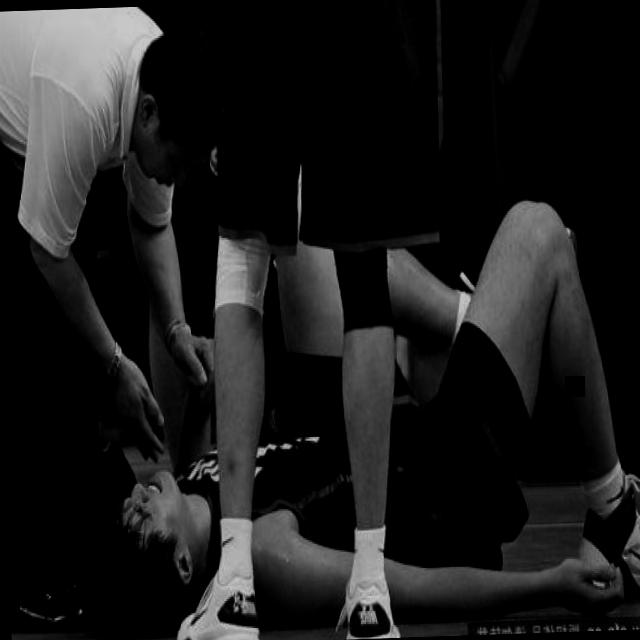Fall-Detected: (65, 200, 640, 631)
